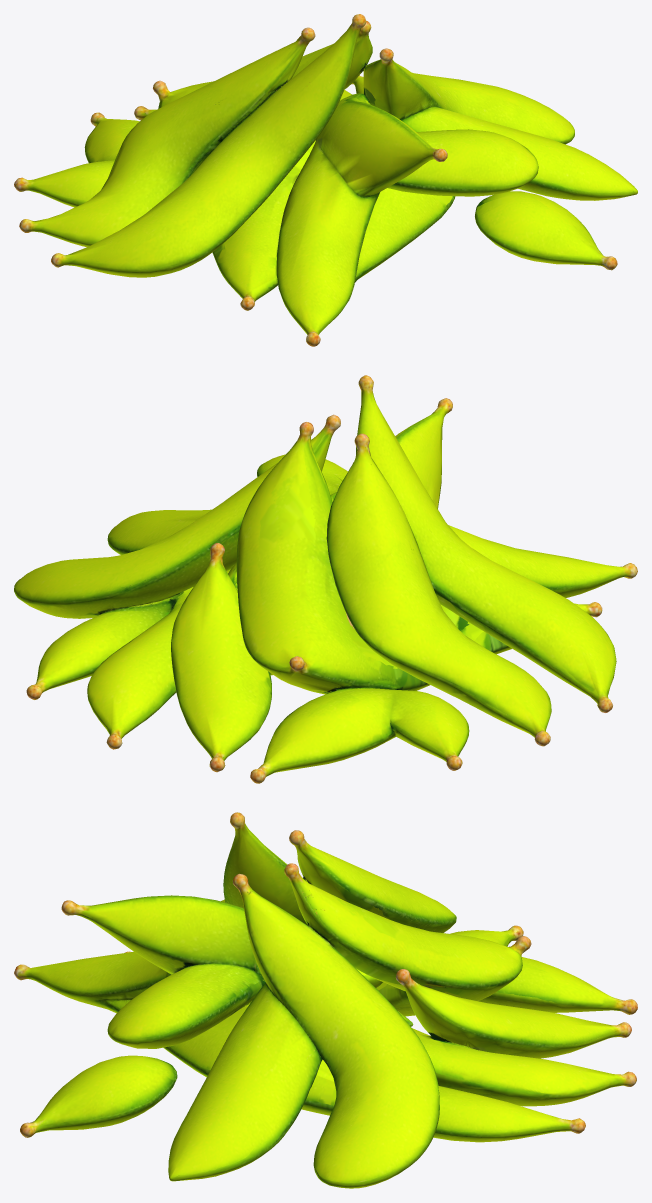
File: beer-edamame.glb
3 renders of one model, top to bottom at view 1: azimuth 30°, elevation 25°; view 2: azimuth 150°, elevation 25°; view 3: azimuth 270°, elevation 25°, orthographic. The views are drawn at different scales.
Parts seen in each view (by area): view 1: mesh; view 2: mesh; view 3: mesh.
Part boxes in pixels (x1=…): mesh: x1=14, y1=14, x2=637, y2=346; mesh: x1=14, y1=375, x2=637, y2=783; mesh: x1=14, y1=812, x2=637, y2=1188.
Size of the model in its own units: 2 by 0.8262 by 1.87.
Materials: 1 (1 with a texture image).
